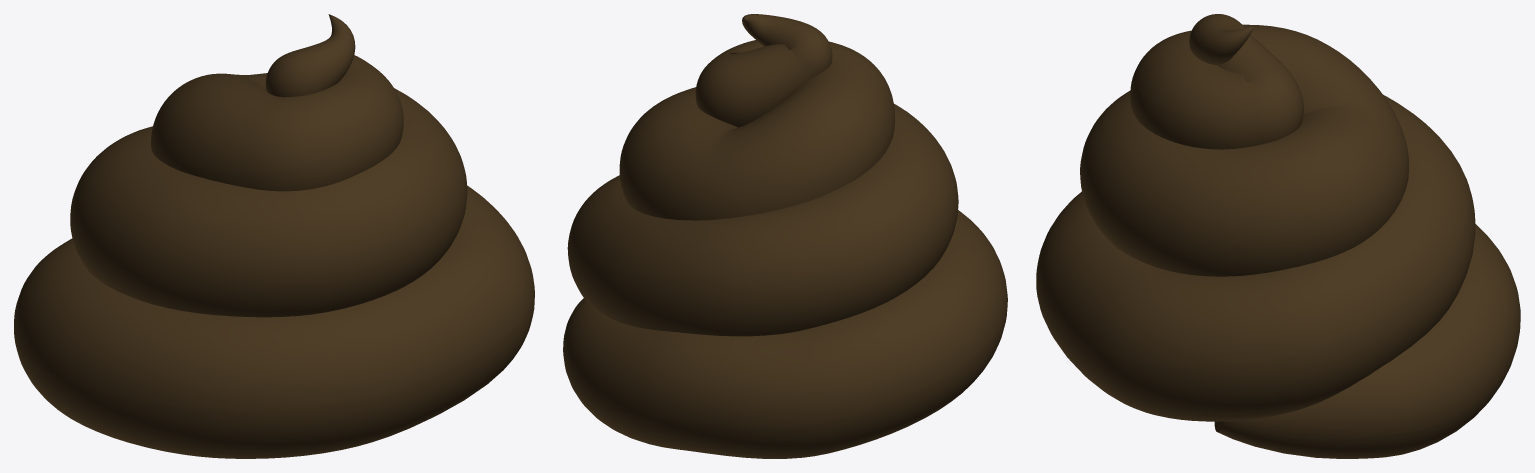
Rendered from shit.fbx.
3 views of the same model, side by side, from view 1: azimuth 30°, elevation 25°; view 2: azimuth 150°, elevation 25°; view 3: azimuth 270°, elevation 25° (orthographic). The views are drawn at different scales.
Parts seen in each view (by area): view 1: Object_2; view 2: Object_2; view 3: Object_2.
Boxes of the visible parts, <box> form: Object_2: <box>14,14,534,458</box>; Object_2: <box>563,14,1007,458</box>; Object_2: <box>1036,14,1520,458</box>.
Size of the model in its own units: 23.79 by 20.51 by 22.88.
